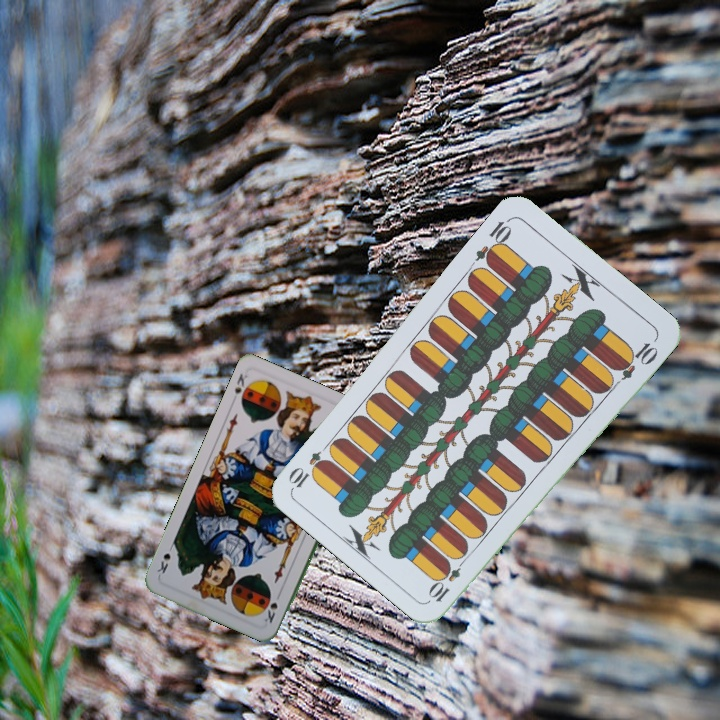E10: (471, 214, 515, 269), (425, 552, 470, 605)
SK: (228, 370, 250, 406), (260, 598, 280, 626)
